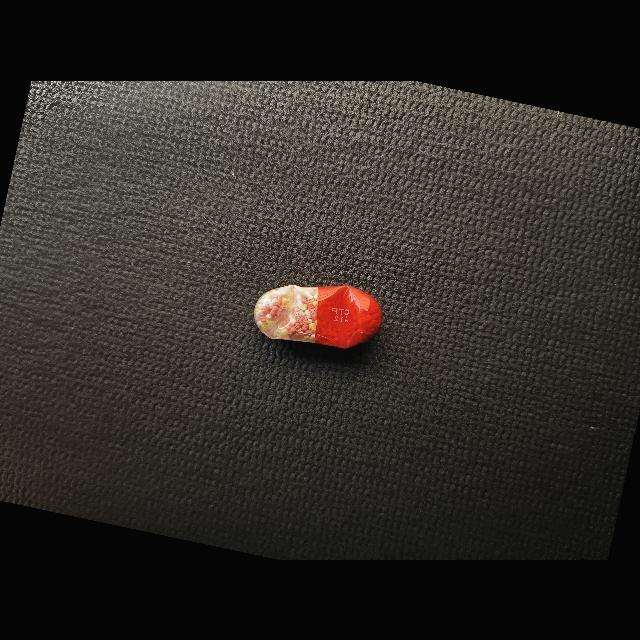Defective Capsule: (254, 284, 382, 348)
